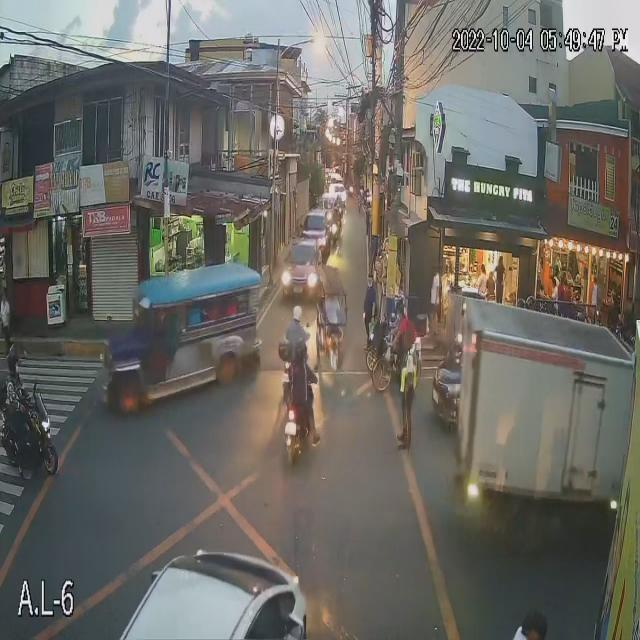helmet: (286, 340, 313, 369), (2, 345, 28, 375), (286, 301, 308, 325)
motorcycle: (0, 372, 58, 478), (269, 392, 320, 464), (268, 337, 305, 389)
rider: (0, 341, 32, 435), (283, 339, 318, 419), (278, 301, 312, 362)
